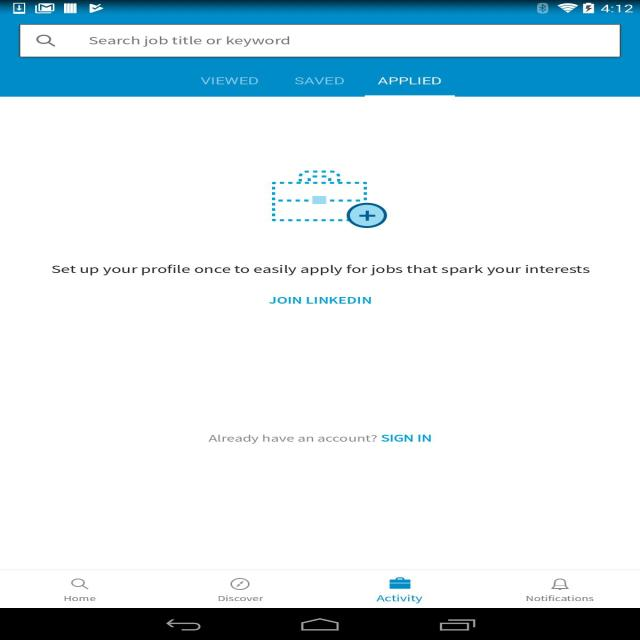button: (516, 571, 607, 608), (195, 570, 279, 608), (42, 569, 114, 606), (365, 568, 430, 607), (276, 68, 354, 98), (363, 70, 451, 96), (189, 69, 267, 95)
field: (21, 24, 619, 57)
image: (253, 168, 389, 232)
label: (85, 33, 292, 48)
link: (268, 294, 375, 306), (378, 430, 435, 444)
text: (49, 262, 594, 275), (205, 435, 378, 444)
